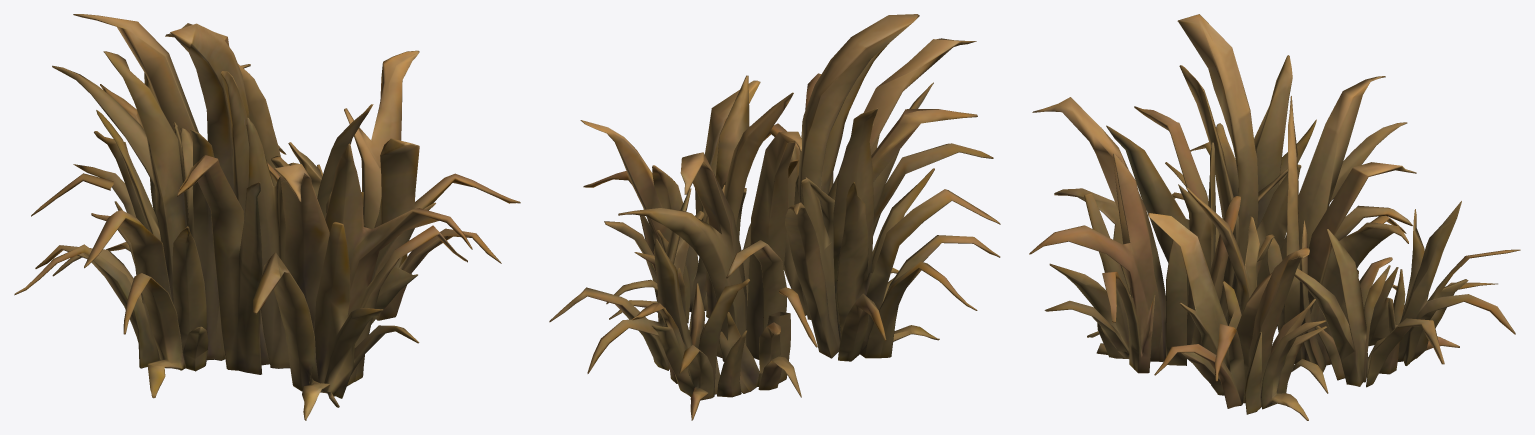
File: grass_tuft.glb
The picture shows the model from 3 angles, left to right: view 1: azimuth 30°, elevation 25°; view 2: azimuth 150°, elevation 25°; view 3: azimuth 270°, elevation 25°; orthographic projection. The views are drawn at different scales.
Visible parts, largest first — view 1: tripo_node_b8a7357b-6ead-4a39-b86a-f35f6a9eebc8; view 2: tripo_node_b8a7357b-6ead-4a39-b86a-f35f6a9eebc8; view 3: tripo_node_b8a7357b-6ead-4a39-b86a-f35f6a9eebc8.
Boxes of the visible parts, x1,y1,x2,y2 form: tripo_node_b8a7357b-6ead-4a39-b86a-f35f6a9eebc8: (14,14,520,420); tripo_node_b8a7357b-6ead-4a39-b86a-f35f6a9eebc8: (549,14,1000,420); tripo_node_b8a7357b-6ead-4a39-b86a-f35f6a9eebc8: (1029,14,1520,420).
Bounding box in the file's own units: 0.9256 × 0.6673 × 1.
Materials: 1 (1 with a texture image).
